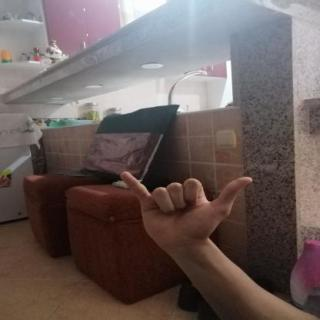YA: (109, 165, 268, 259)
